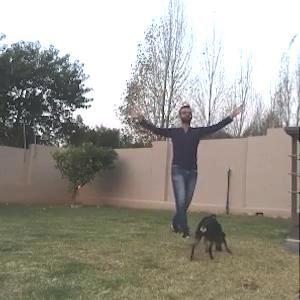takeoff: (130, 89, 251, 242)
